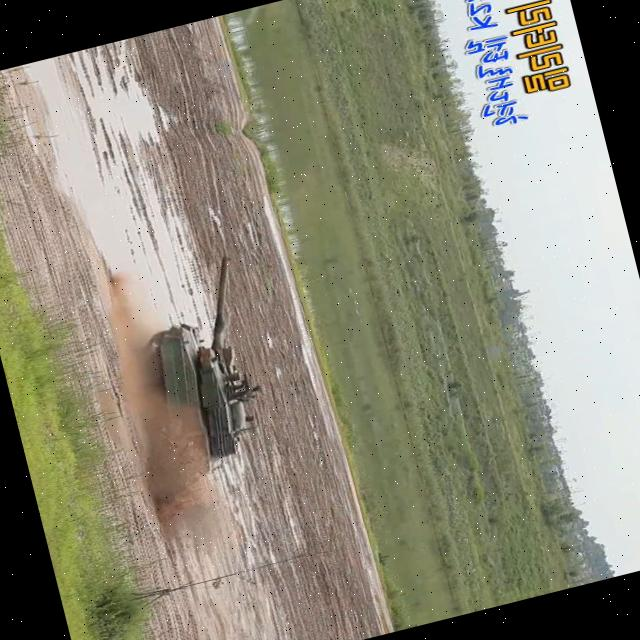korea tank: (113, 249, 285, 492)
